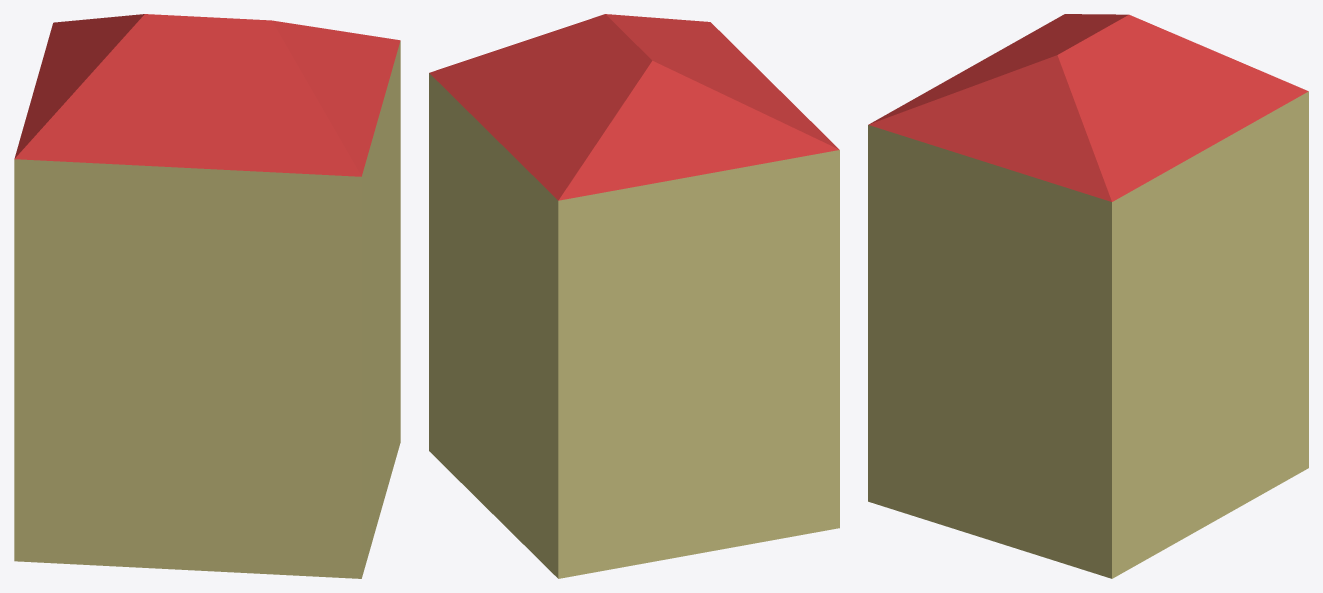
3 views of the same model, side by side, from view 1: azimuth 30°, elevation 25°; view 2: azimuth 150°, elevation 25°; view 3: azimuth 270°, elevation 25° (orthographic). The views are drawn at different scales.
Visible parts, largest first — view 1: group_4, group_3; view 2: group_4, group_3; view 3: group_4, group_3.
Boxes of the visible parts, x1,y1,x2,y2 form: group_4: (14, 41, 400, 578); group_3: (14, 14, 400, 176); group_4: (429, 73, 839, 578); group_3: (429, 14, 839, 200); group_4: (868, 91, 1308, 578); group_3: (868, 14, 1308, 201).
Bounding box in the file's own units: 11.83 × 11.71 × 13.24.
